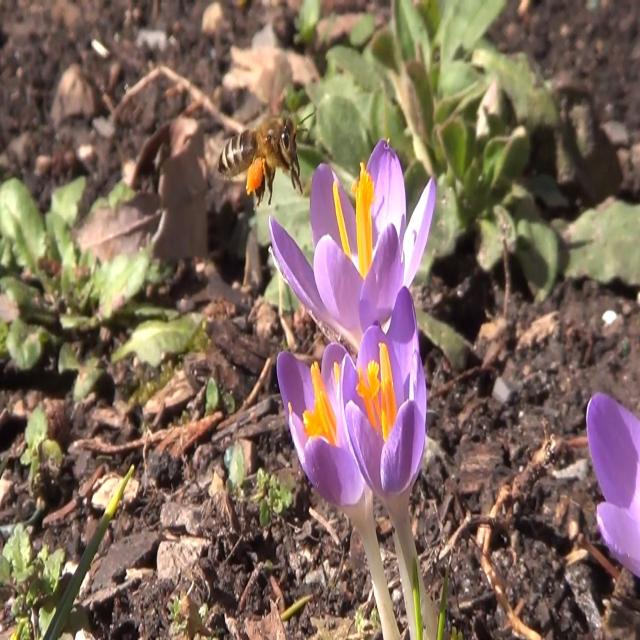honeybee: (217, 118, 303, 196)
